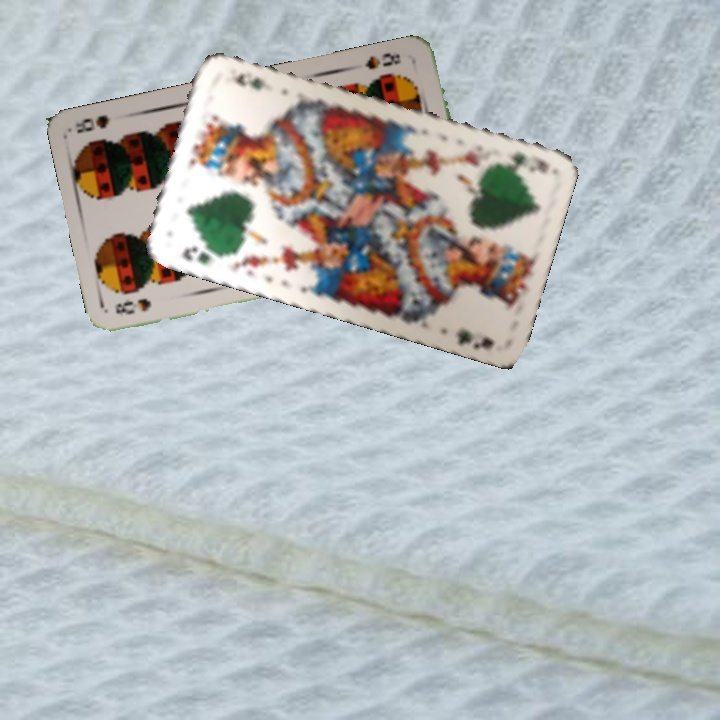GK: (493, 147, 552, 176), (177, 242, 225, 267)
S8: (361, 48, 404, 72), (111, 294, 154, 318)
